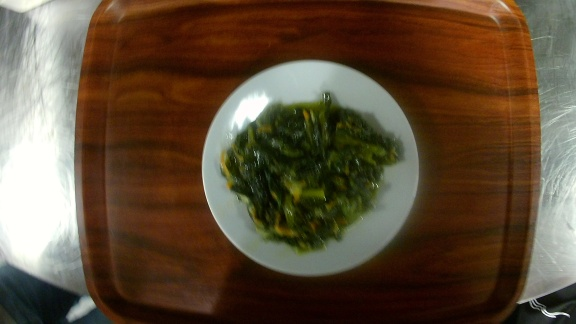ispanak: (200, 57, 424, 278)
